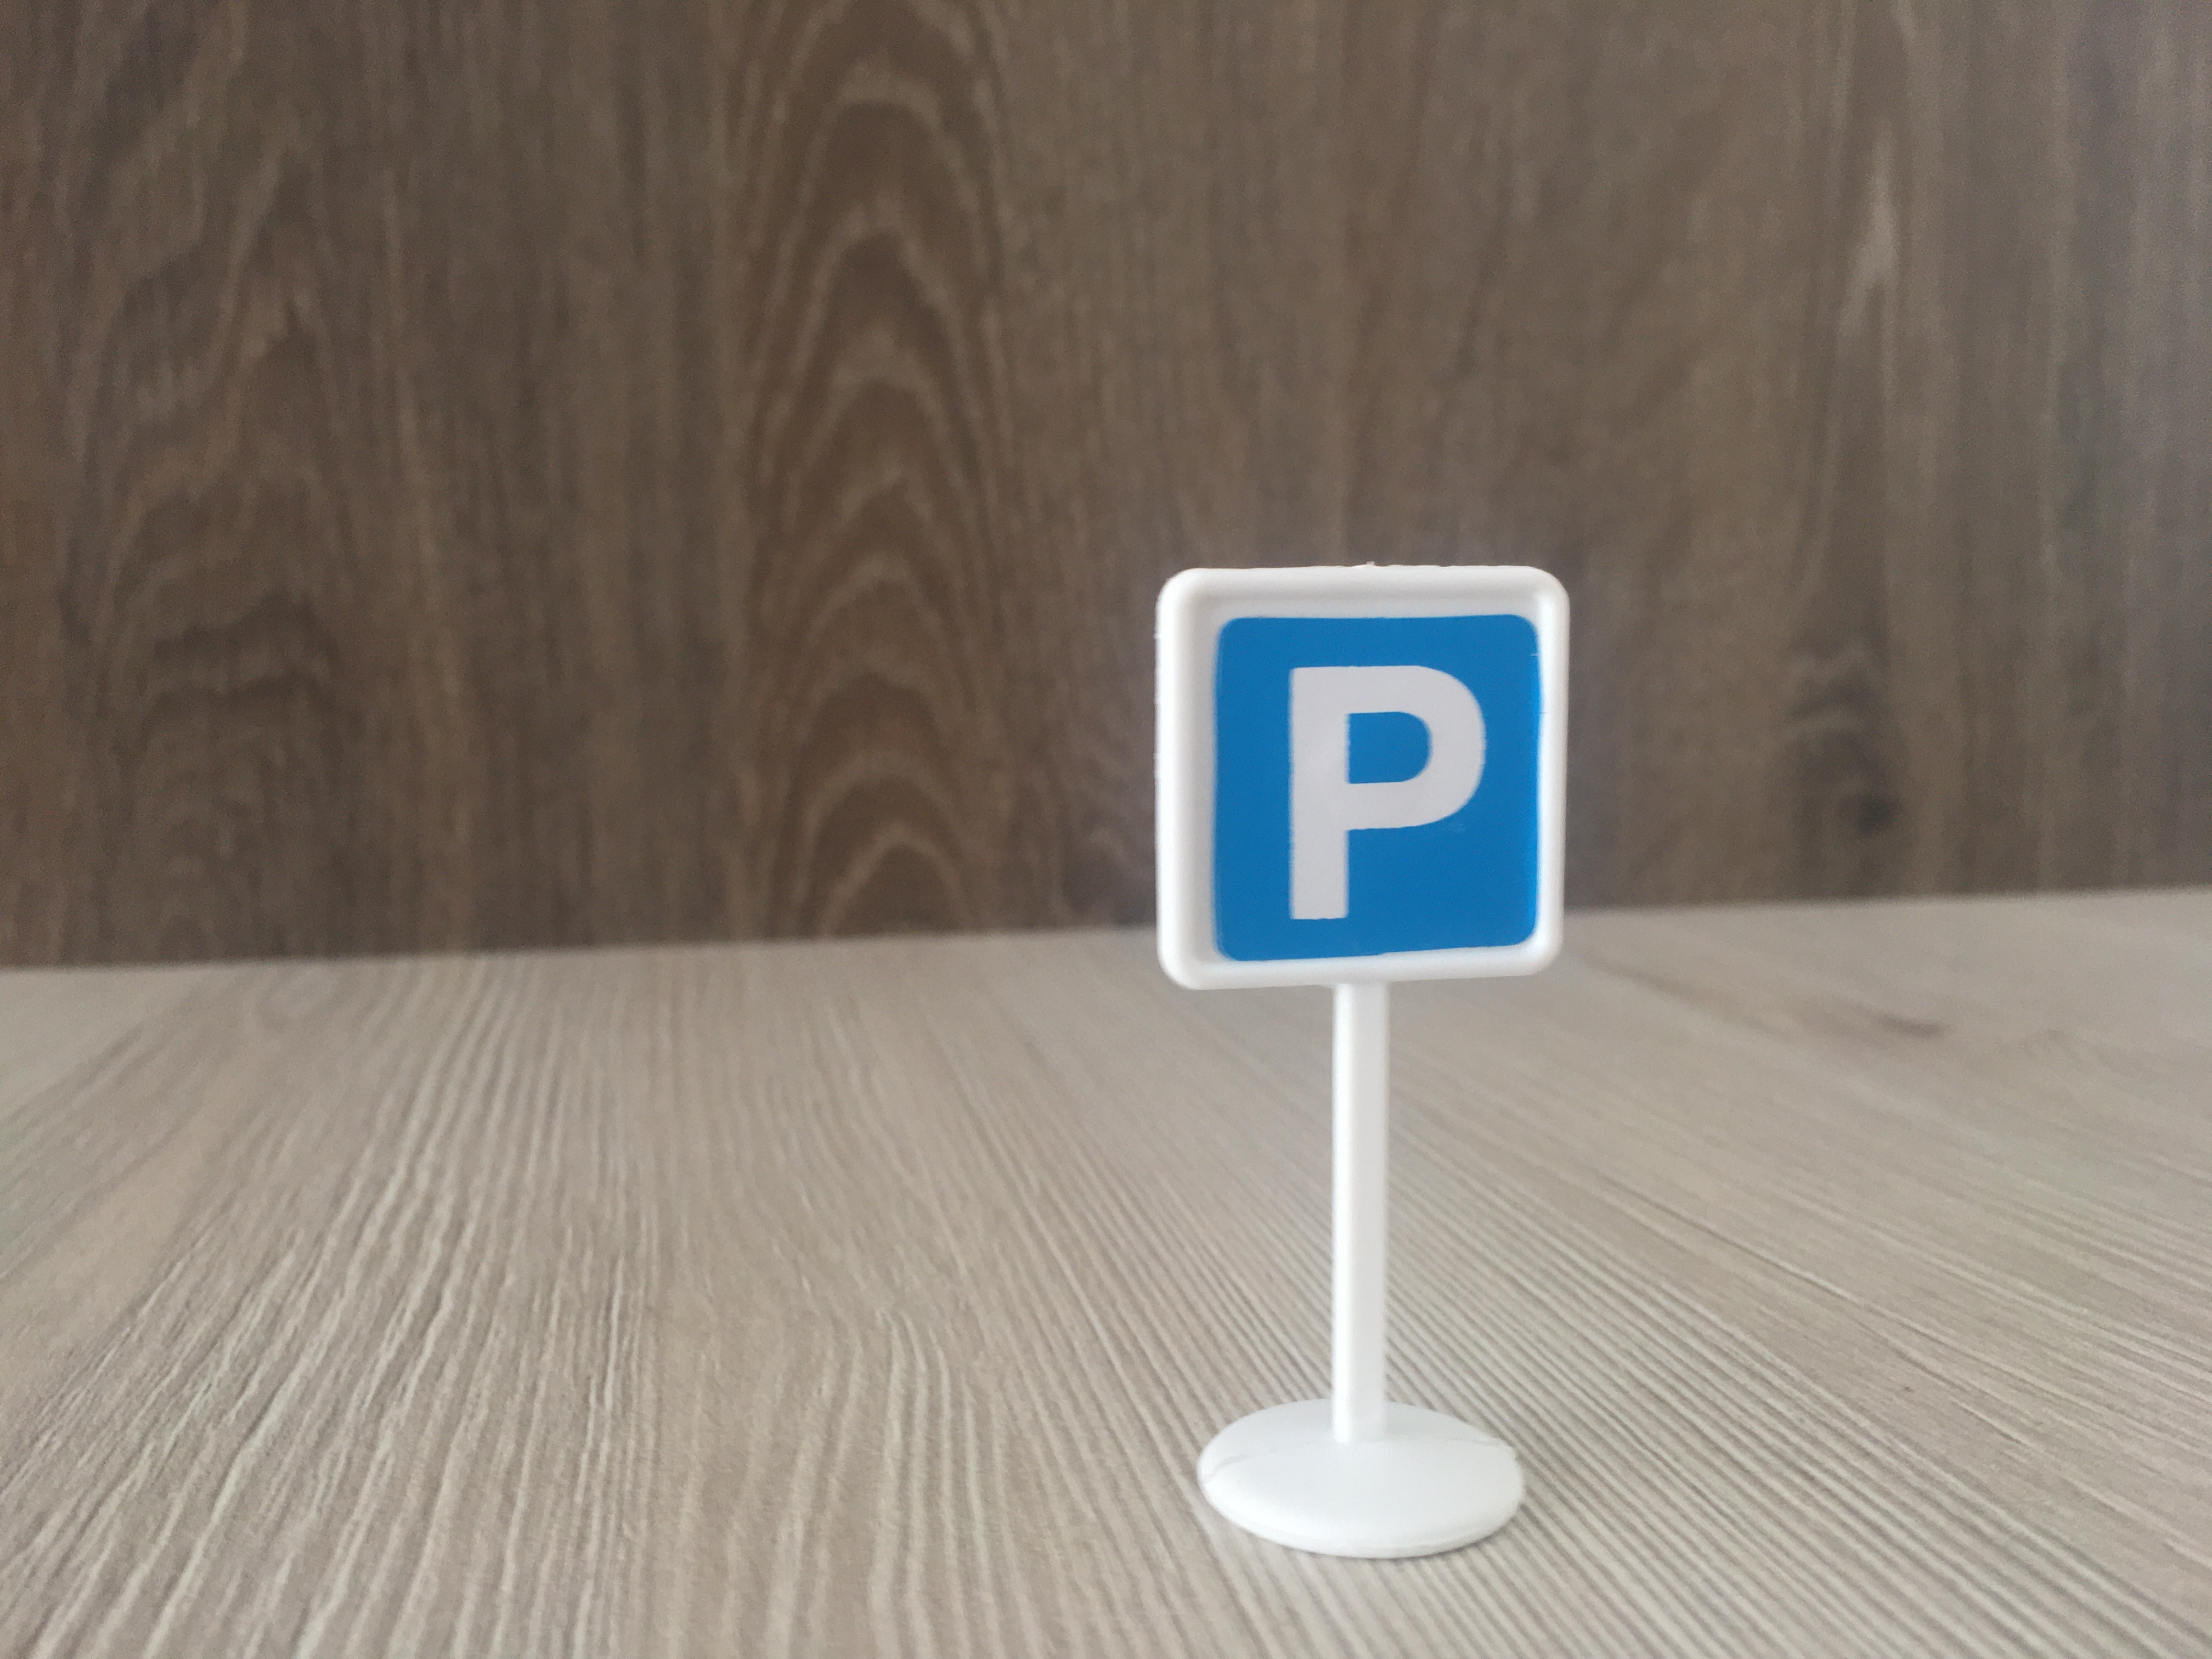parking: (1143, 556, 1573, 986)
